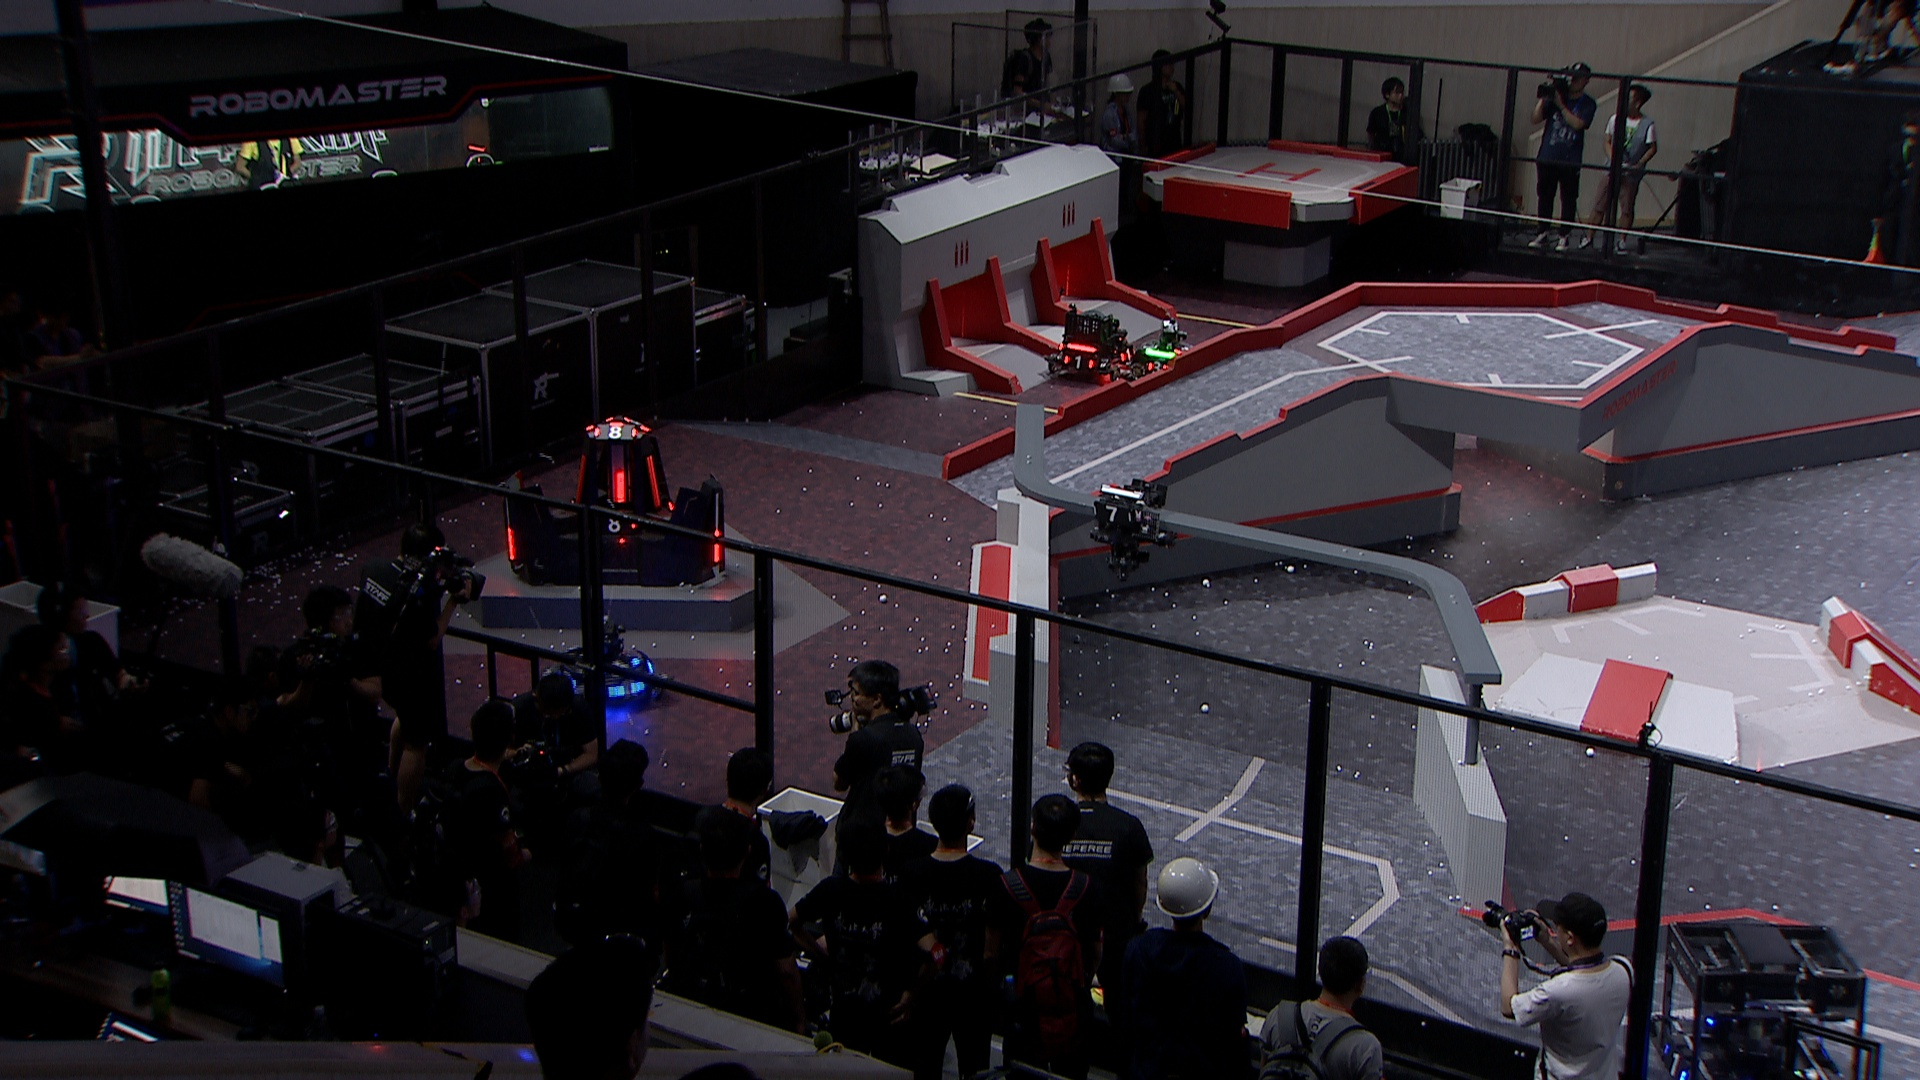armor: (1658, 1043, 1691, 1080), (645, 452, 665, 510), (1091, 501, 1134, 526), (572, 451, 589, 509), (604, 680, 647, 703), (589, 425, 640, 440), (607, 469, 626, 506), (603, 517, 638, 535), (502, 526, 518, 566), (605, 655, 645, 671), (1062, 353, 1097, 371), (711, 527, 727, 564), (1120, 344, 1138, 365), (1147, 357, 1168, 373)
base: (502, 418, 727, 589)
car: (1648, 920, 1870, 1080), (546, 617, 667, 711), (1043, 301, 1139, 382), (1129, 314, 1200, 380)
watcher: (1088, 479, 1174, 582)
